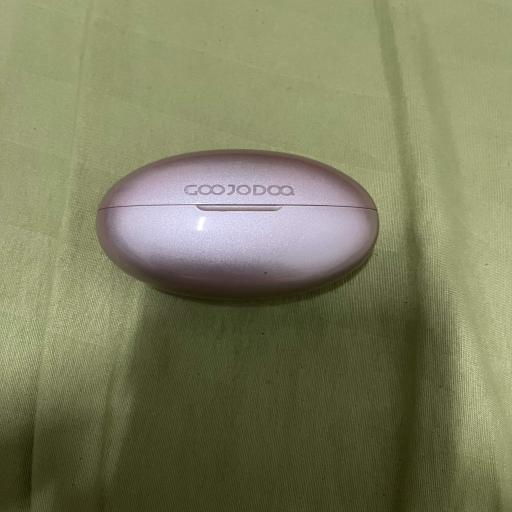GOOJODOQ: (96, 150, 378, 299)
